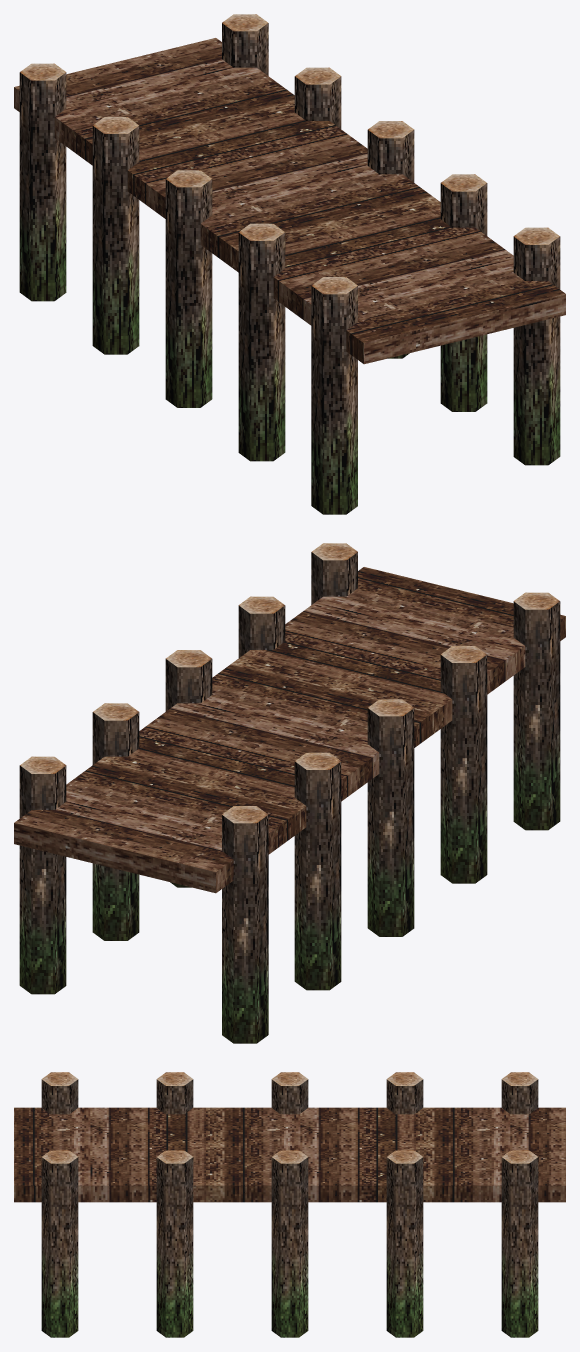
The model's file is pixel_pier_lowpoly.fbx.
3 renders of one model, top to bottom at view 1: azimuth 30°, elevation 25°; view 2: azimuth 150°, elevation 25°; view 3: azimuth 270°, elevation 25°, orthographic. The views are drawn at different scales.
Parts seen in each view (by area): view 1: psx_pier_logs, psx_pier_base, psx_pier_logs_bark; view 2: psx_pier_logs, psx_pier_base, psx_pier_logs_bark; view 3: psx_pier_base, psx_pier_logs, psx_pier_logs_bark.
Part boxes in pixels (bbox=[...]): psx_pier_logs: bbox=[19, 23, 560, 514]; psx_pier_base: bbox=[14, 38, 565, 364]; psx_pier_logs_bark: bbox=[20, 14, 559, 294]; psx_pier_logs: bbox=[19, 552, 560, 1043]; psx_pier_base: bbox=[14, 567, 565, 893]; psx_pier_logs_bark: bbox=[20, 543, 559, 823]; psx_pier_base: bbox=[14, 1107, 565, 1202]; psx_pier_logs: bbox=[41, 1079, 538, 1337]; psx_pier_logs_bark: bbox=[42, 1072, 537, 1163].
Bounding box in the file's own units: 469 × 417 × 1200.
